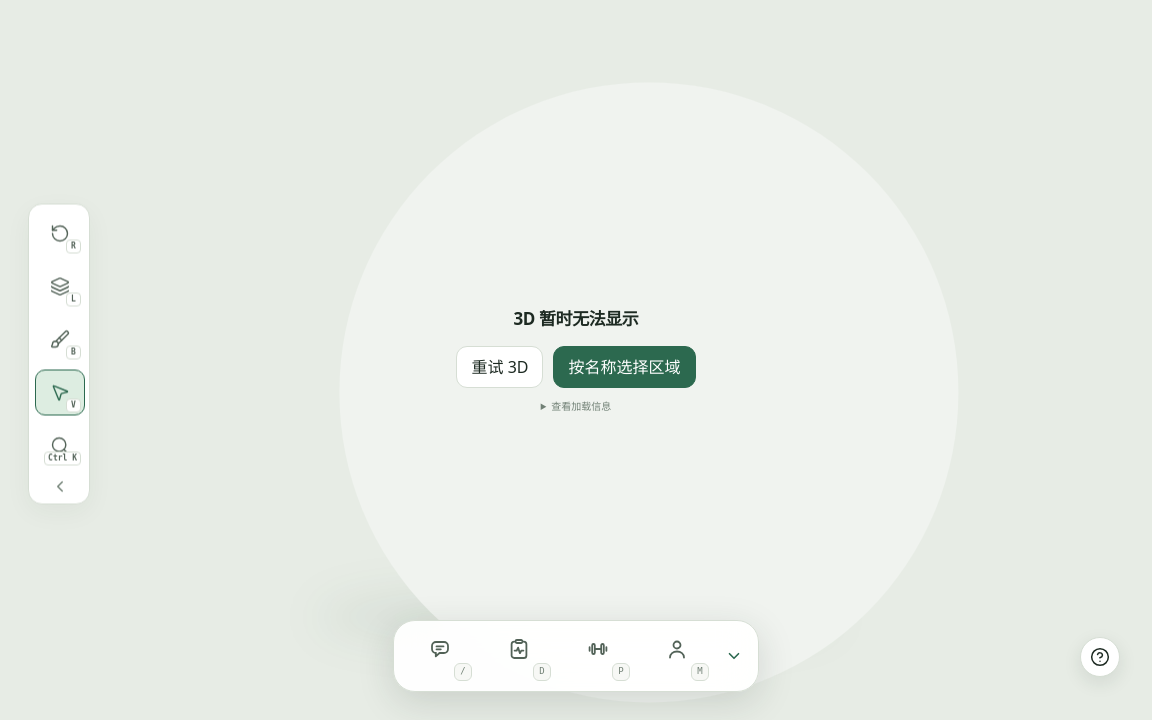
Test: body-first business windows › shows Person Media as a Penpot thumbnail grid grouped by month
Click the button "M" at (677, 656), box left=641, top=627, right=713, bottom=685
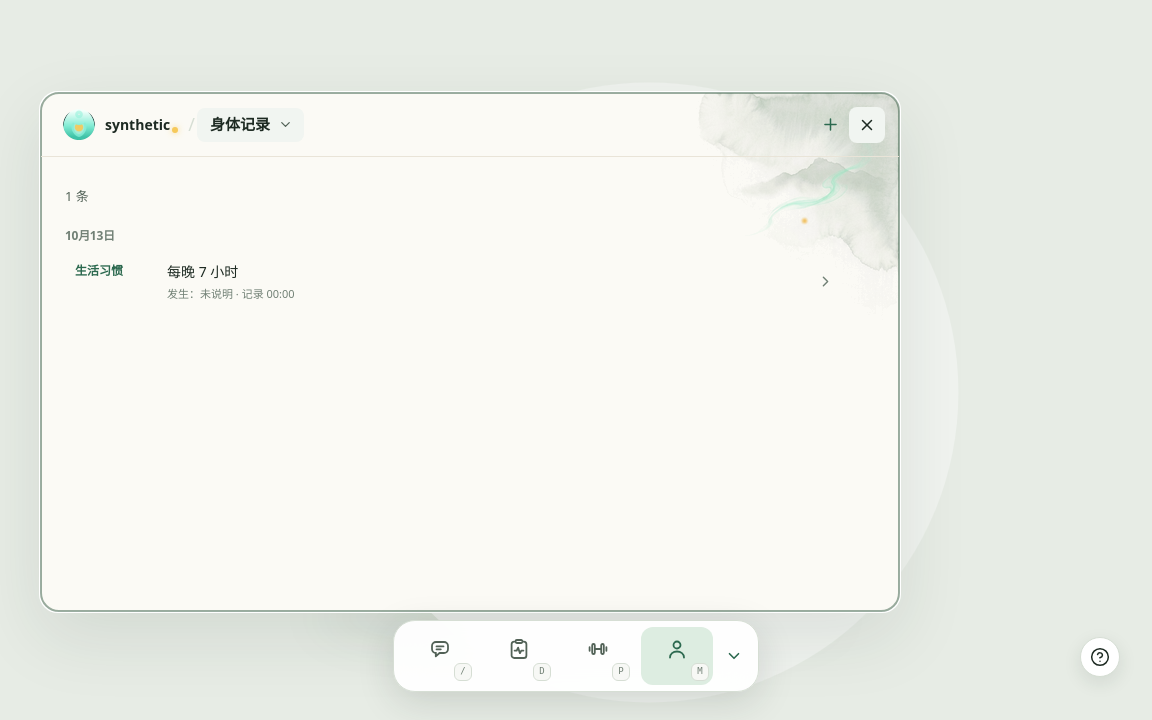
Expected: the element with test id "person-window" is shown, left=65, top=187, right=860, bottom=314
Click the button named "档案分类" at (250, 124), box left=197, top=108, right=304, bottom=142
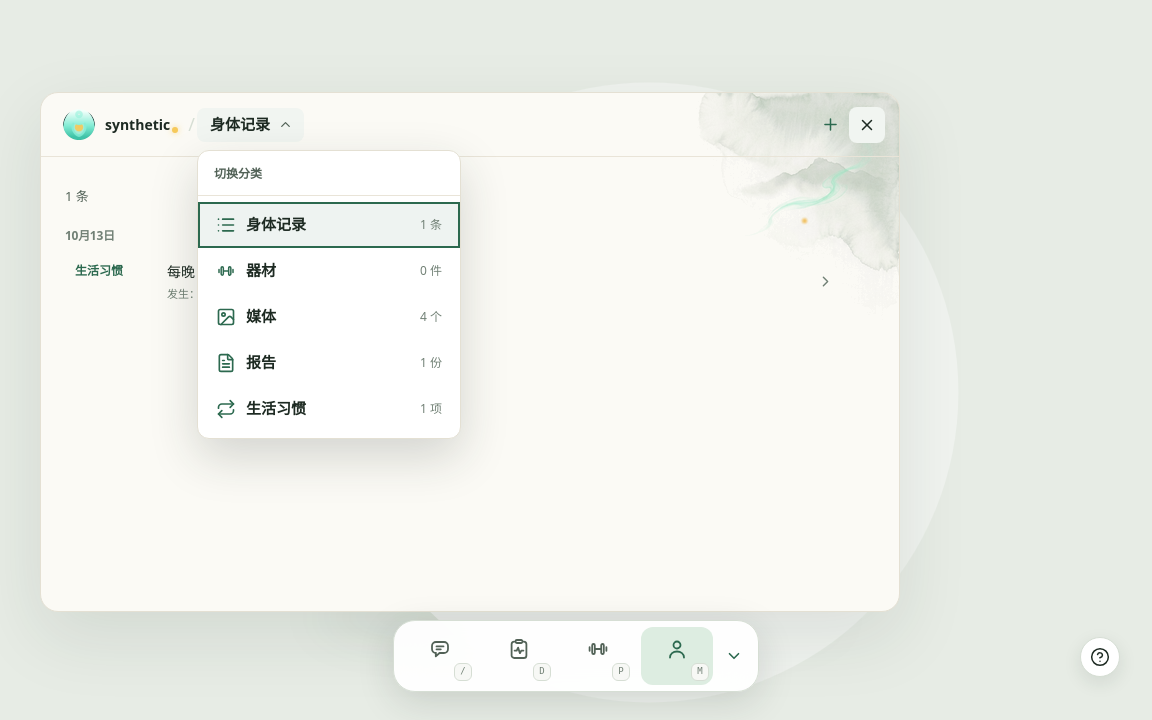
Click the option "媒体 4 个" at (261, 316), box left=216, top=306, right=442, bottom=327
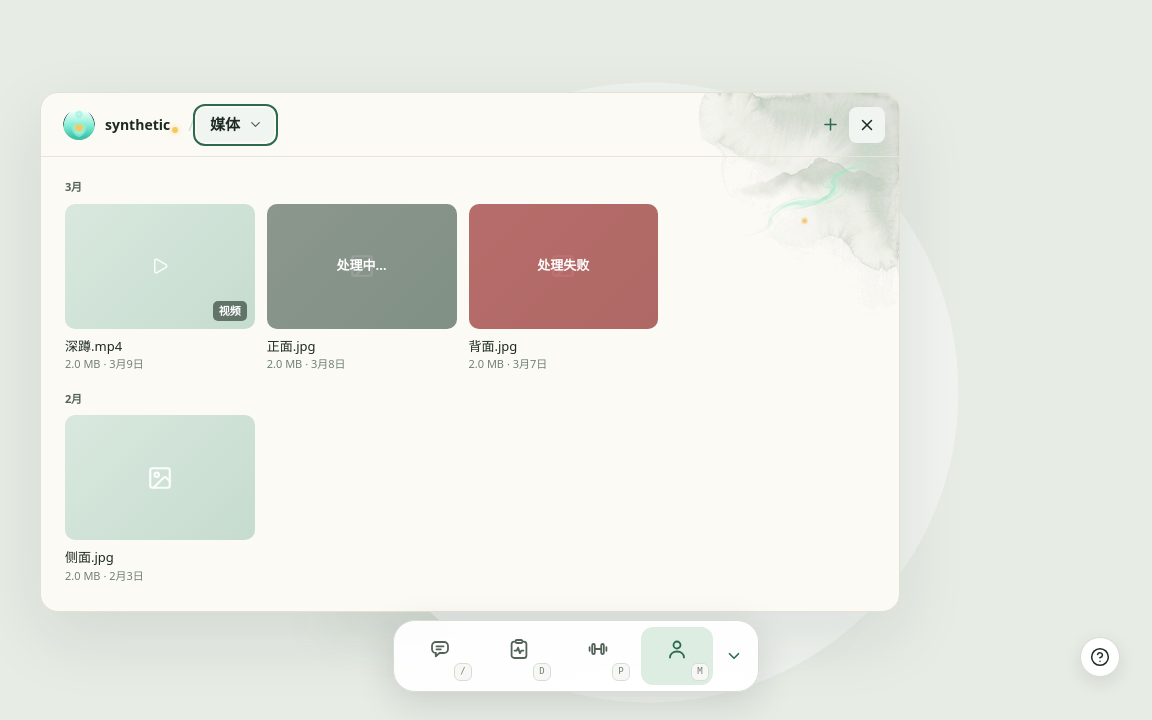
Expected: the button named "上传照片" is enabled, left=814, top=108, right=846, bottom=140
Expected: the headings read "3月", "2月", in this order, left=65, top=179, right=82, bottom=194; left=65, top=391, right=82, bottom=406
Expected: the text "视频" is shown, left=213, top=301, right=247, bottom=321
